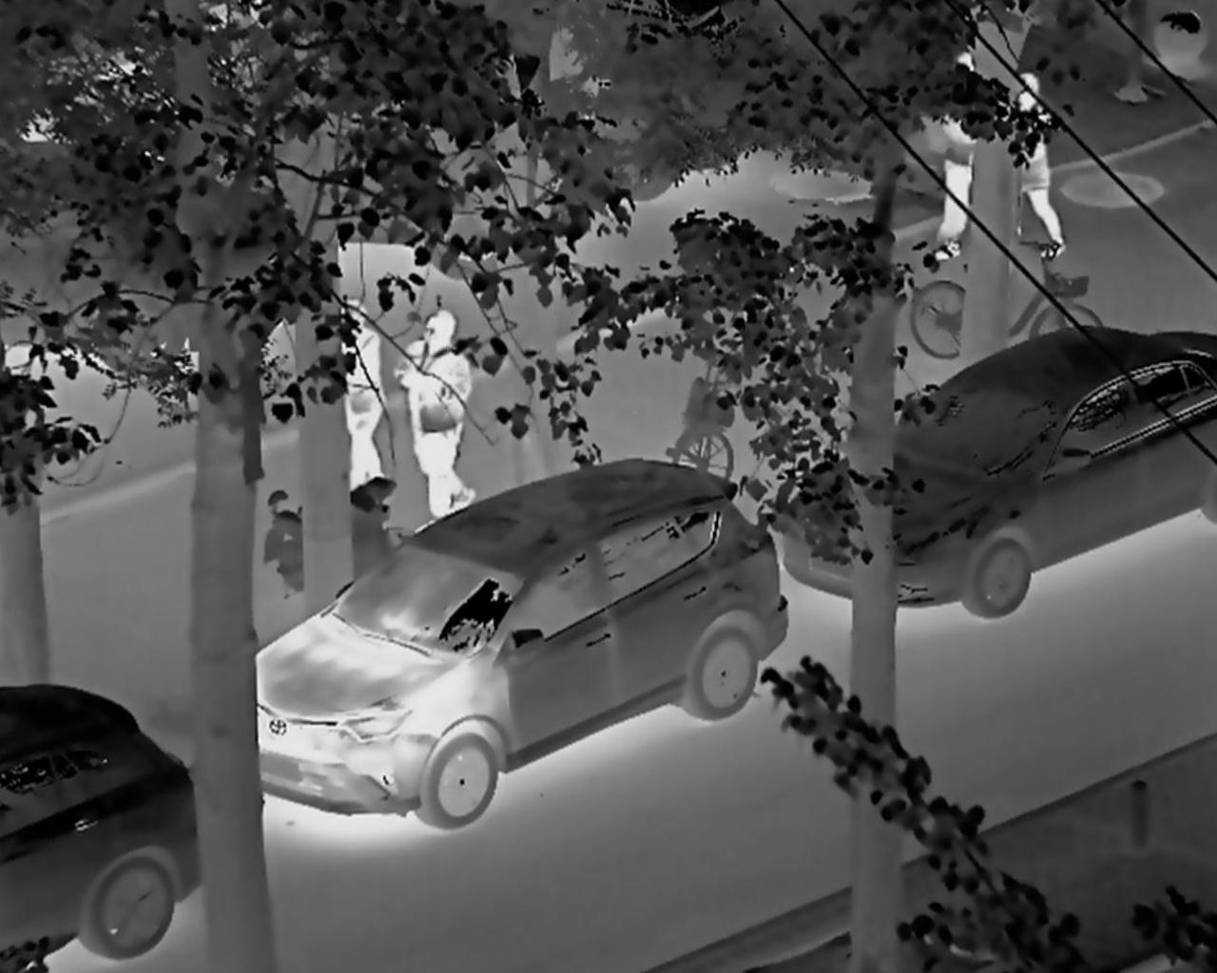person: (396, 295, 480, 531), (992, 66, 1085, 266), (324, 282, 385, 504), (936, 48, 981, 265)
